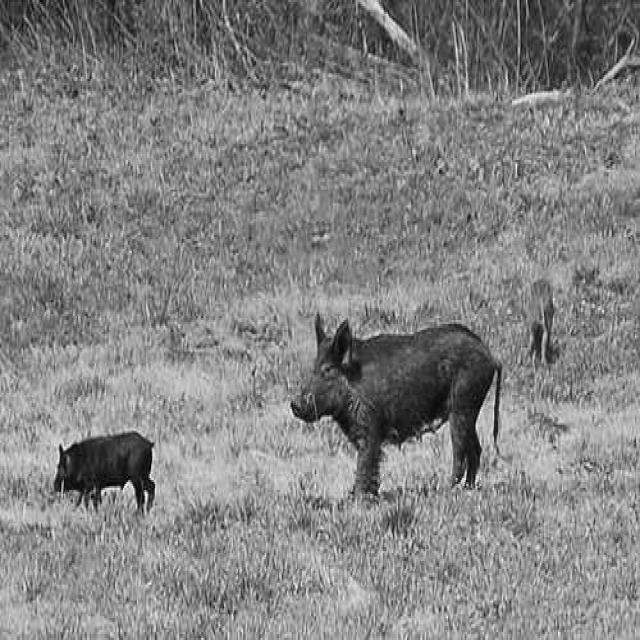boar: (291, 312, 499, 490), (56, 433, 155, 513), (530, 280, 554, 368)
